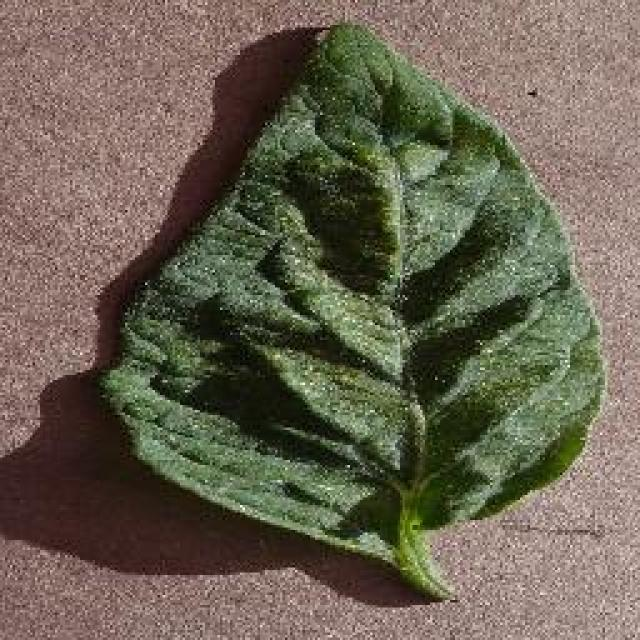Tomato___Spider_mites Two-spotted_spider_mite: (102, 22, 602, 598)
